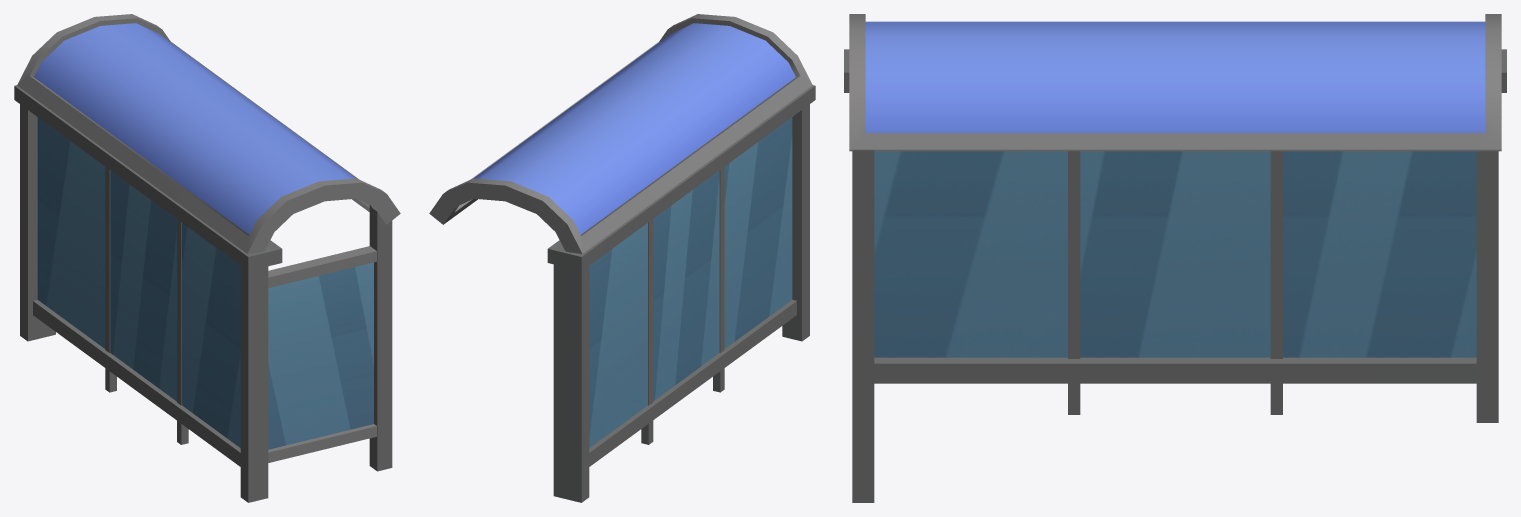
The model's file is BusStop_A.glb.
3 renders of one model, left to right at view 1: azimuth 30°, elevation 25°; view 2: azimuth 150°, elevation 25°; view 3: azimuth 270°, elevation 25°, orthographic. The views are drawn at different scales.
Visible parts, largest first — view 1: BusStop_A; view 2: BusStop_A; view 3: BusStop_A.
Part boxes in pixels (x1,y1,x2,y2): BusStop_A: [14, 14, 400, 502]; BusStop_A: [429, 14, 815, 502]; BusStop_A: [844, 14, 1506, 502].
Size of the model in its own units: 1.53 by 2.84 by 4.03.
2 materials, 2 textured.
